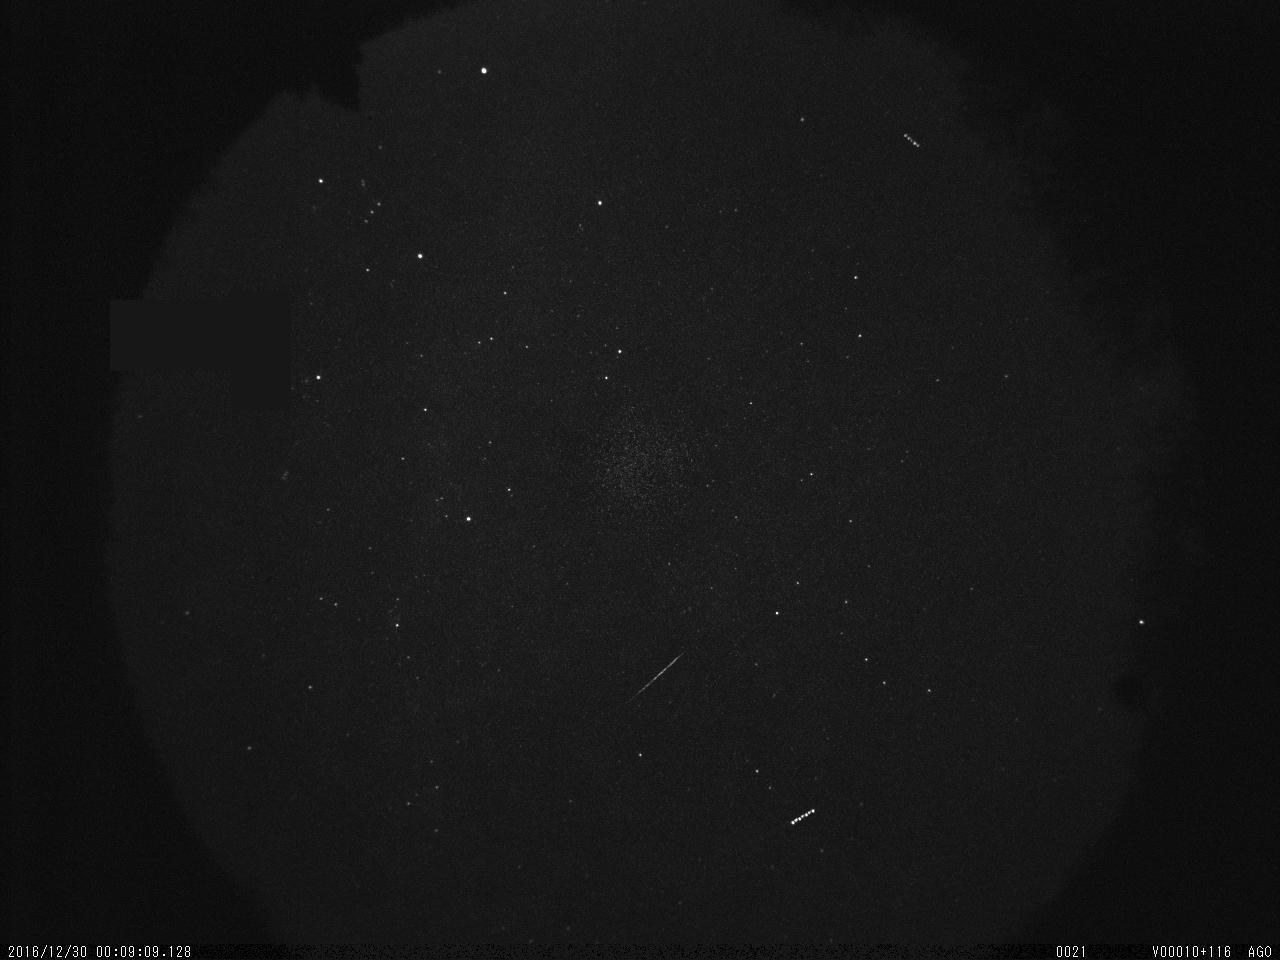meteor: (621, 642, 691, 713)
satelite: (788, 797, 818, 834), (900, 124, 924, 157)
